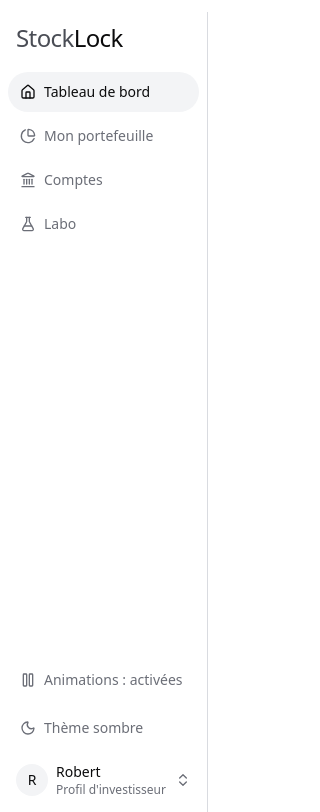
Scenario: AppSidebar › switches straight to another profile from the menu
Click the button with aria-label "Profil actif : Robert" at (104, 780), box [8, 756, 199, 804]
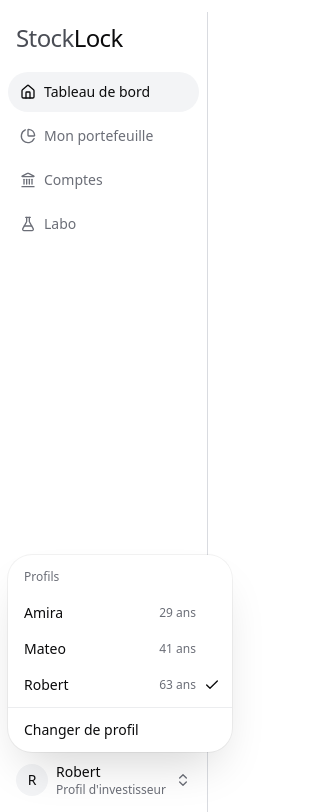
Click the menu item "Amira 29 ans" at (44, 612), box [24, 603, 196, 622]
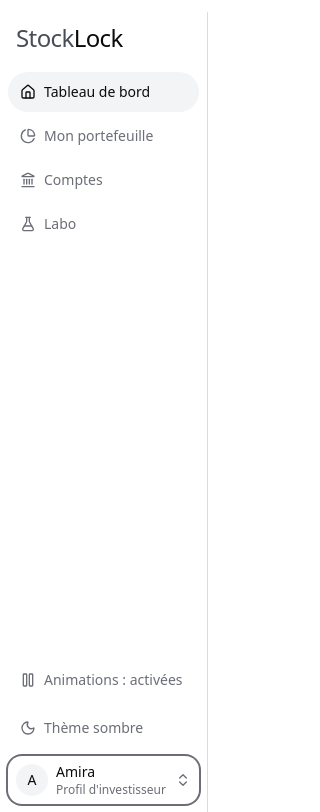
Check: the button with aria-label "Profil actif : Amira" is shown, box [8, 756, 199, 804]
